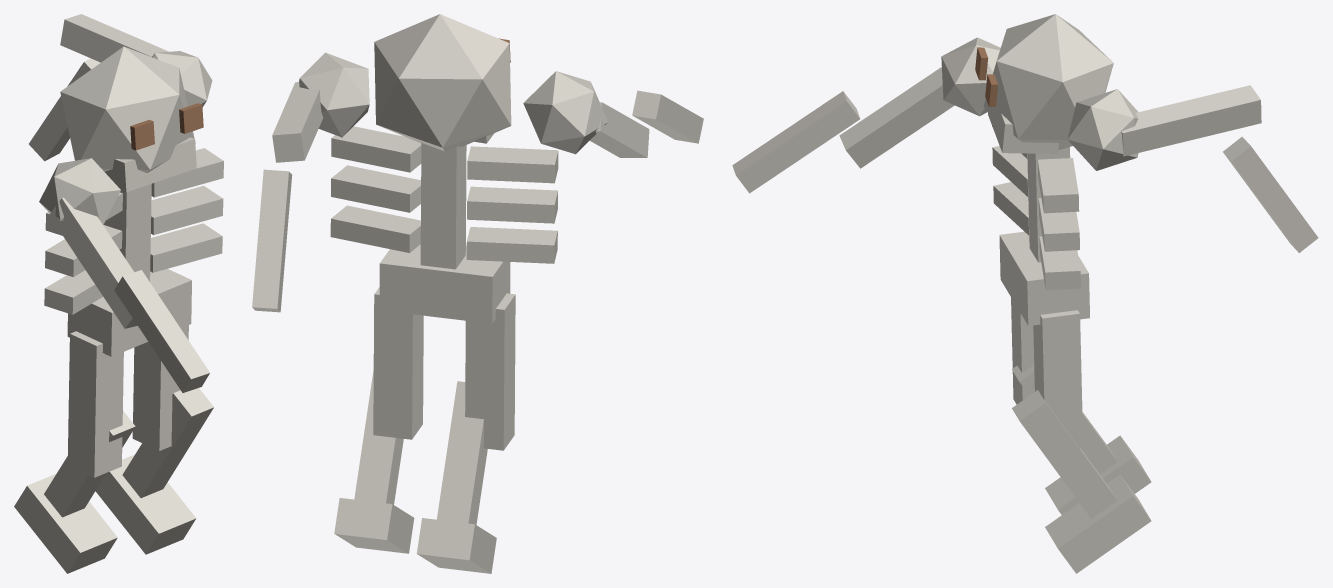
File: npcpose_skeleton_attack_06.glb
3 renders of one model, left to right at view 1: azimuth 30°, elevation 25°; view 2: azimuth 150°, elevation 25°; view 3: azimuth 270°, elevation 25°, orthographic. The views are drawn at different scales.
Visible parts, largest first — view 1: npcpose; view 2: npcpose; view 3: npcpose.
Boxes of the visible parts, <box> form: npcpose: <box>14,14,223,573</box>; npcpose: <box>252,14,703,573</box>; npcpose: <box>732,14,1318,573</box>.
Size of the model in its own units: 0.7475 by 1.64 by 1.66.
